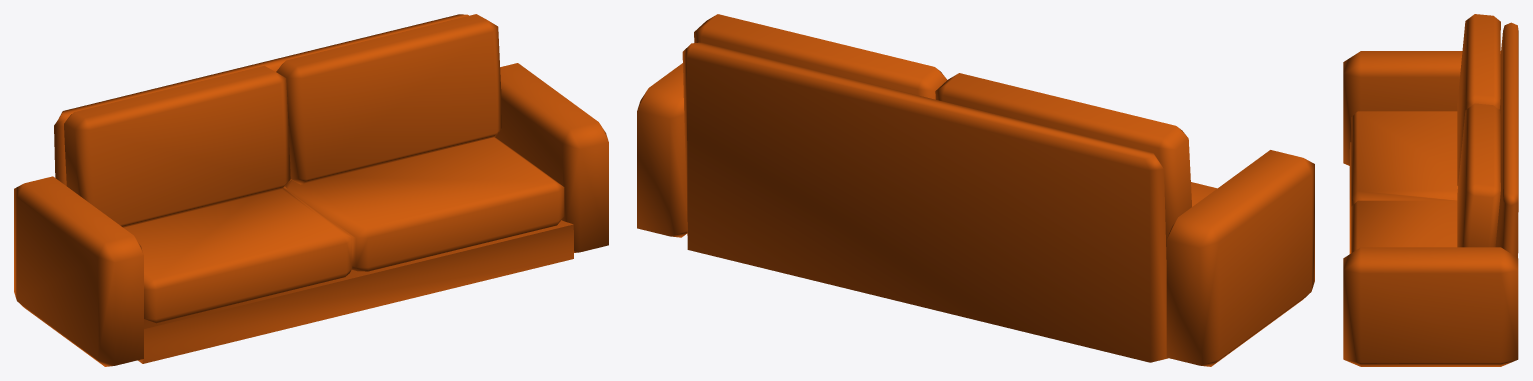
Rendered from Sofa.fbx.
3 views of the same model, side by side, from view 1: azimuth 30°, elevation 25°; view 2: azimuth 150°, elevation 25°; view 3: azimuth 270°, elevation 25° (orthographic). The views are drawn at different scales.
Visible parts, largest first — view 1: sofa.006; view 2: sofa.006; view 3: sofa.006.
Boxes of the visible parts, x1,y1,x2,y2 form: sofa.006: (14,14,608,366); sofa.006: (637,14,1314,366); sofa.006: (1343,14,1518,366).
Size of the model in its own units: 293 by 101 by 104.
